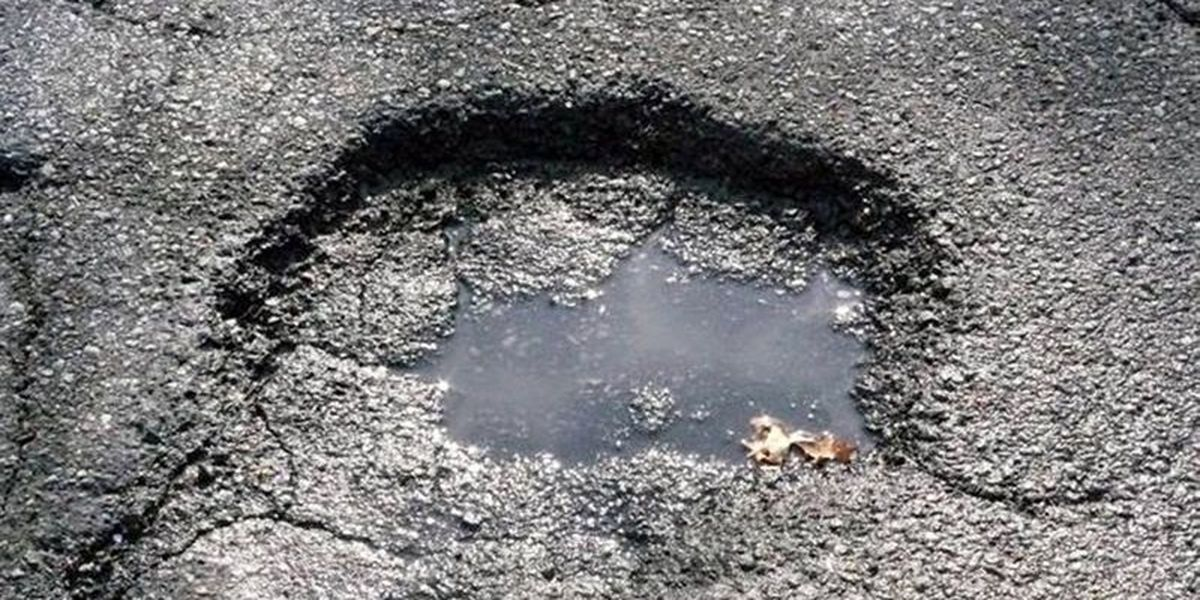pothole: (202, 88, 989, 535)
